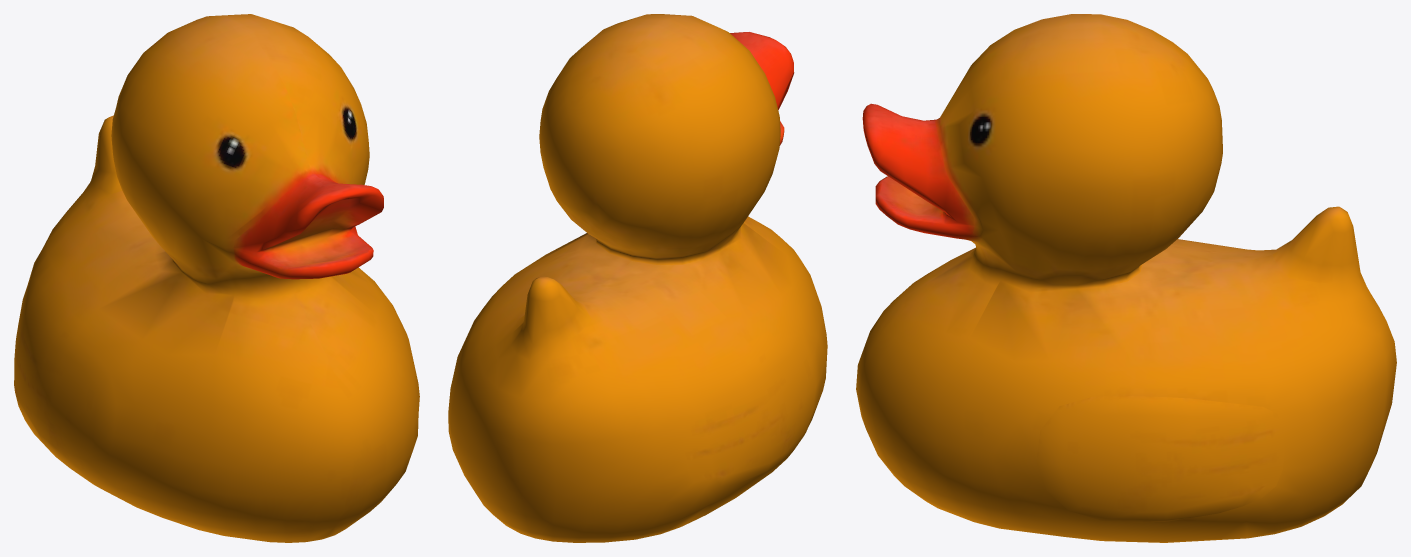
The model's file is rubber_duck.glb.
3 views of the same model, side by side, from view 1: azimuth 30°, elevation 25°; view 2: azimuth 150°, elevation 25°; view 3: azimuth 270°, elevation 25° (orthographic). The views are drawn at different scales.
Parts seen in each view (by area): view 1: rubber_duck_toy; view 2: rubber_duck_toy; view 3: rubber_duck_toy.
Boxes of the visible parts, x1,y1,x2,y2 form: rubber_duck_toy: (14,14,419,542); rubber_duck_toy: (448,14,827,542); rubber_duck_toy: (856,14,1396,542).
Size of the model in its own units: 0.2135 by 0.2855 by 0.3.
Materials: 1 (1 with a texture image).
